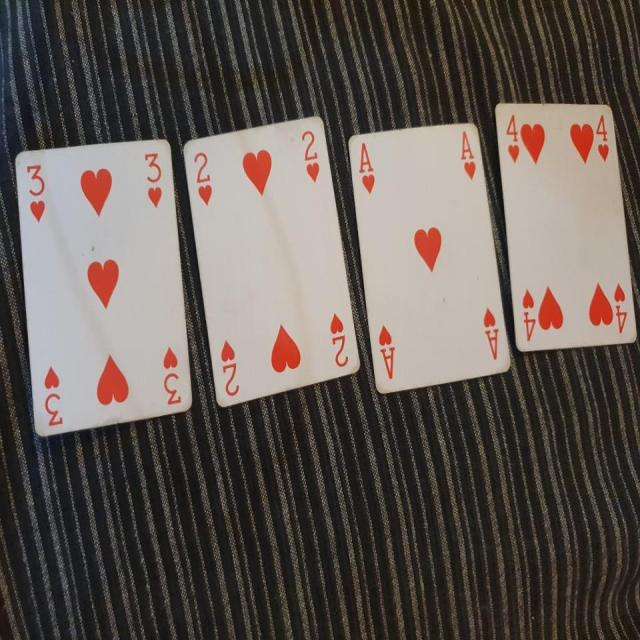2 Hearts: (184, 116, 365, 424)
3 Hearts: (10, 138, 196, 450)
4 Hearts: (488, 88, 640, 358)
A Hearts: (347, 106, 510, 405)
